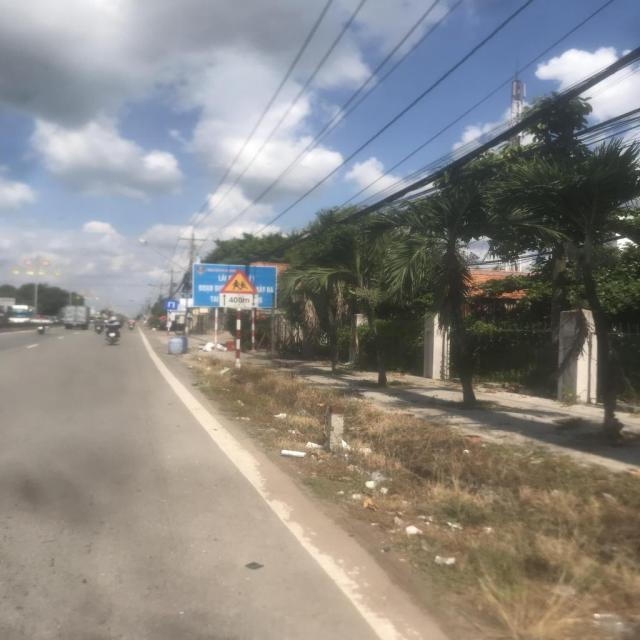cho_quay_xe: (165, 299, 178, 310)
chu_y_tre_em: (219, 268, 260, 294)
khac: (219, 293, 258, 308)
